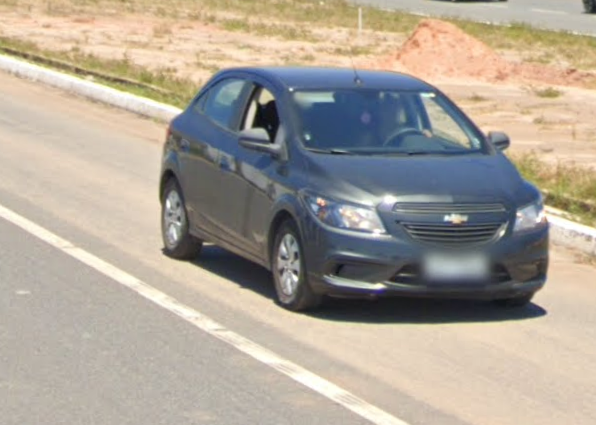car: (156, 52, 550, 318)
